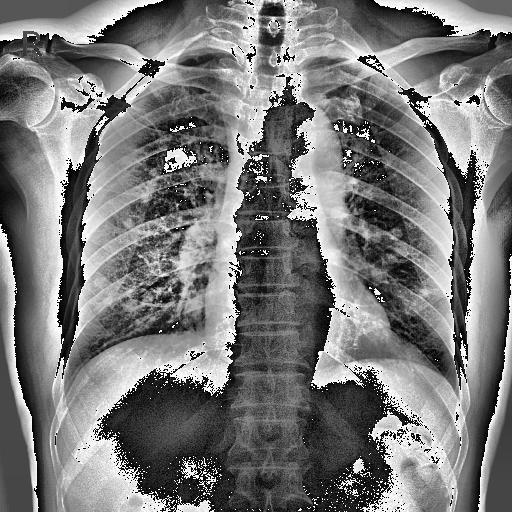0- Aortic enlargement: (264, 108, 348, 180), (270, 106, 344, 166), (280, 100, 344, 168)
11- Pleural thickening: (172, 43, 226, 62)
13- Pulmonary fibrosis: (417, 284, 431, 296)
8- Nodule-Mass: (328, 204, 354, 228), (328, 242, 350, 263), (386, 226, 403, 240), (344, 96, 360, 110), (393, 244, 408, 258), (122, 299, 138, 312), (330, 206, 350, 216), (94, 275, 108, 289), (92, 277, 108, 288), (138, 190, 152, 202), (388, 228, 402, 240), (122, 218, 136, 229), (388, 228, 402, 239), (140, 292, 154, 302), (92, 277, 106, 286), (96, 160, 106, 172), (94, 162, 106, 170)
9- Other lesion: (94, 275, 108, 289), (388, 228, 402, 240)
